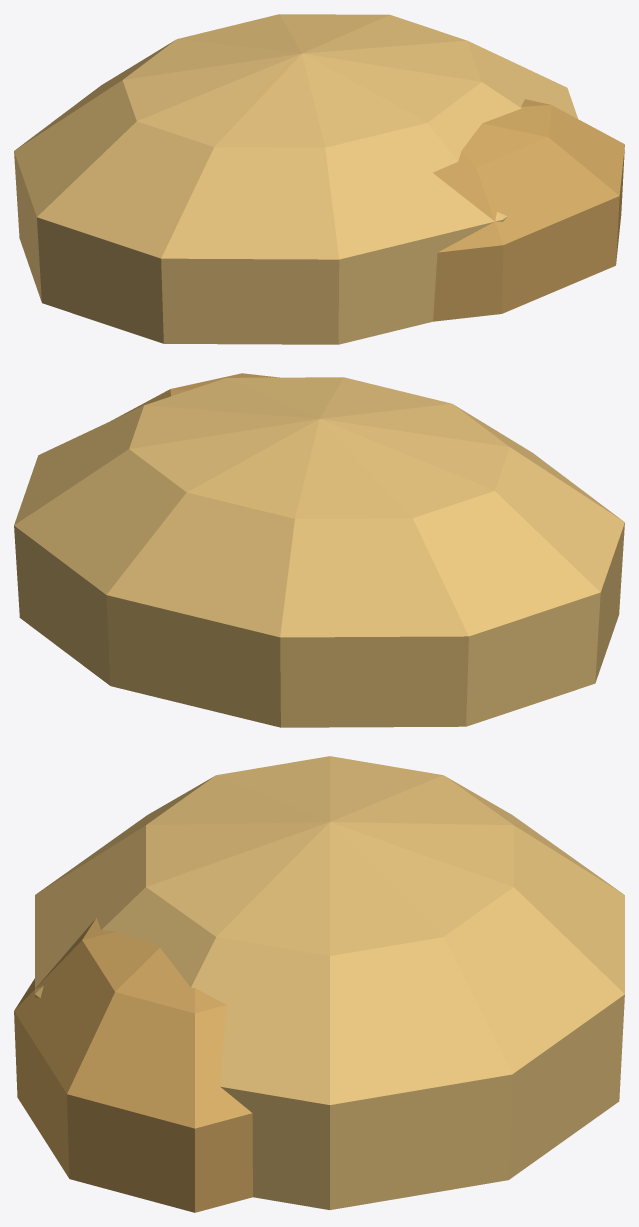
The model's file is env_r5_sand_dune_small.glb.
3 views of the same model, one above another, from view 1: azimuth 30°, elevation 25°; view 2: azimuth 150°, elevation 25°; view 3: azimuth 270°, elevation 25° (orthographic). The views are drawn at different scales.
Visible parts, largest first — view 1: env_r5_sand_dune_small; view 2: env_r5_sand_dune_small; view 3: env_r5_sand_dune_small.
Part boxes in pixels (x1,y1,x2,y2): env_r5_sand_dune_small: [14, 14, 624, 344]; env_r5_sand_dune_small: [14, 373, 624, 727]; env_r5_sand_dune_small: [14, 756, 624, 1212].
Bounding box in the file's own units: 3 × 1 × 2.4.
1 material, 1 textured.
